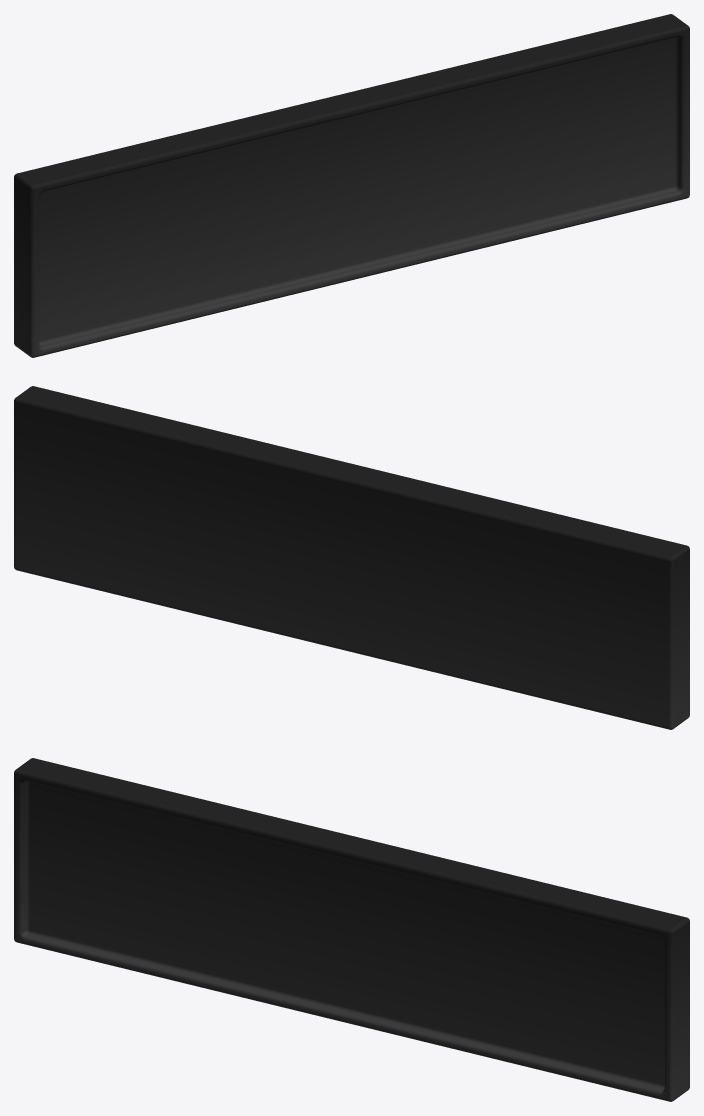
The model's file is HH_HawkerMenuSign.fbx.
3 views of the same model, one above another, from view 1: azimuth 30°, elevation 25°; view 2: azimuth 150°, elevation 25°; view 3: azimuth 330°, elevation 25° (orthographic).
Visible parts, largest first — view 1: HawkerStallMenuSign.001; view 2: HawkerStallMenuSign.001; view 3: HawkerStallMenuSign.001.
Part boxes in pixels (x1,y1,x2,y2): HawkerStallMenuSign.001: (14,14,689,357); HawkerStallMenuSign.001: (14,386,689,729); HawkerStallMenuSign.001: (14,758,689,1101).
Bounding box in the file's own units: 400 × 100 × 20.
1 material, 1 textured.
